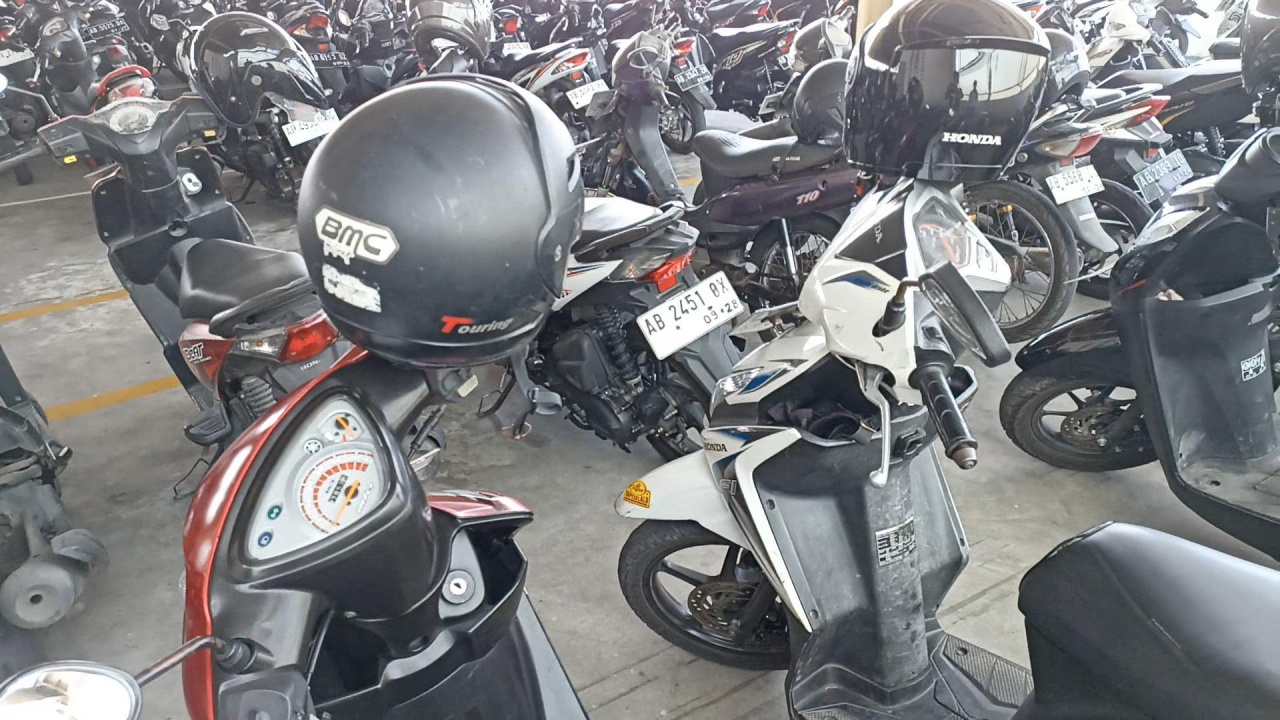plate: (637, 271, 745, 360), (1134, 149, 1194, 203)
